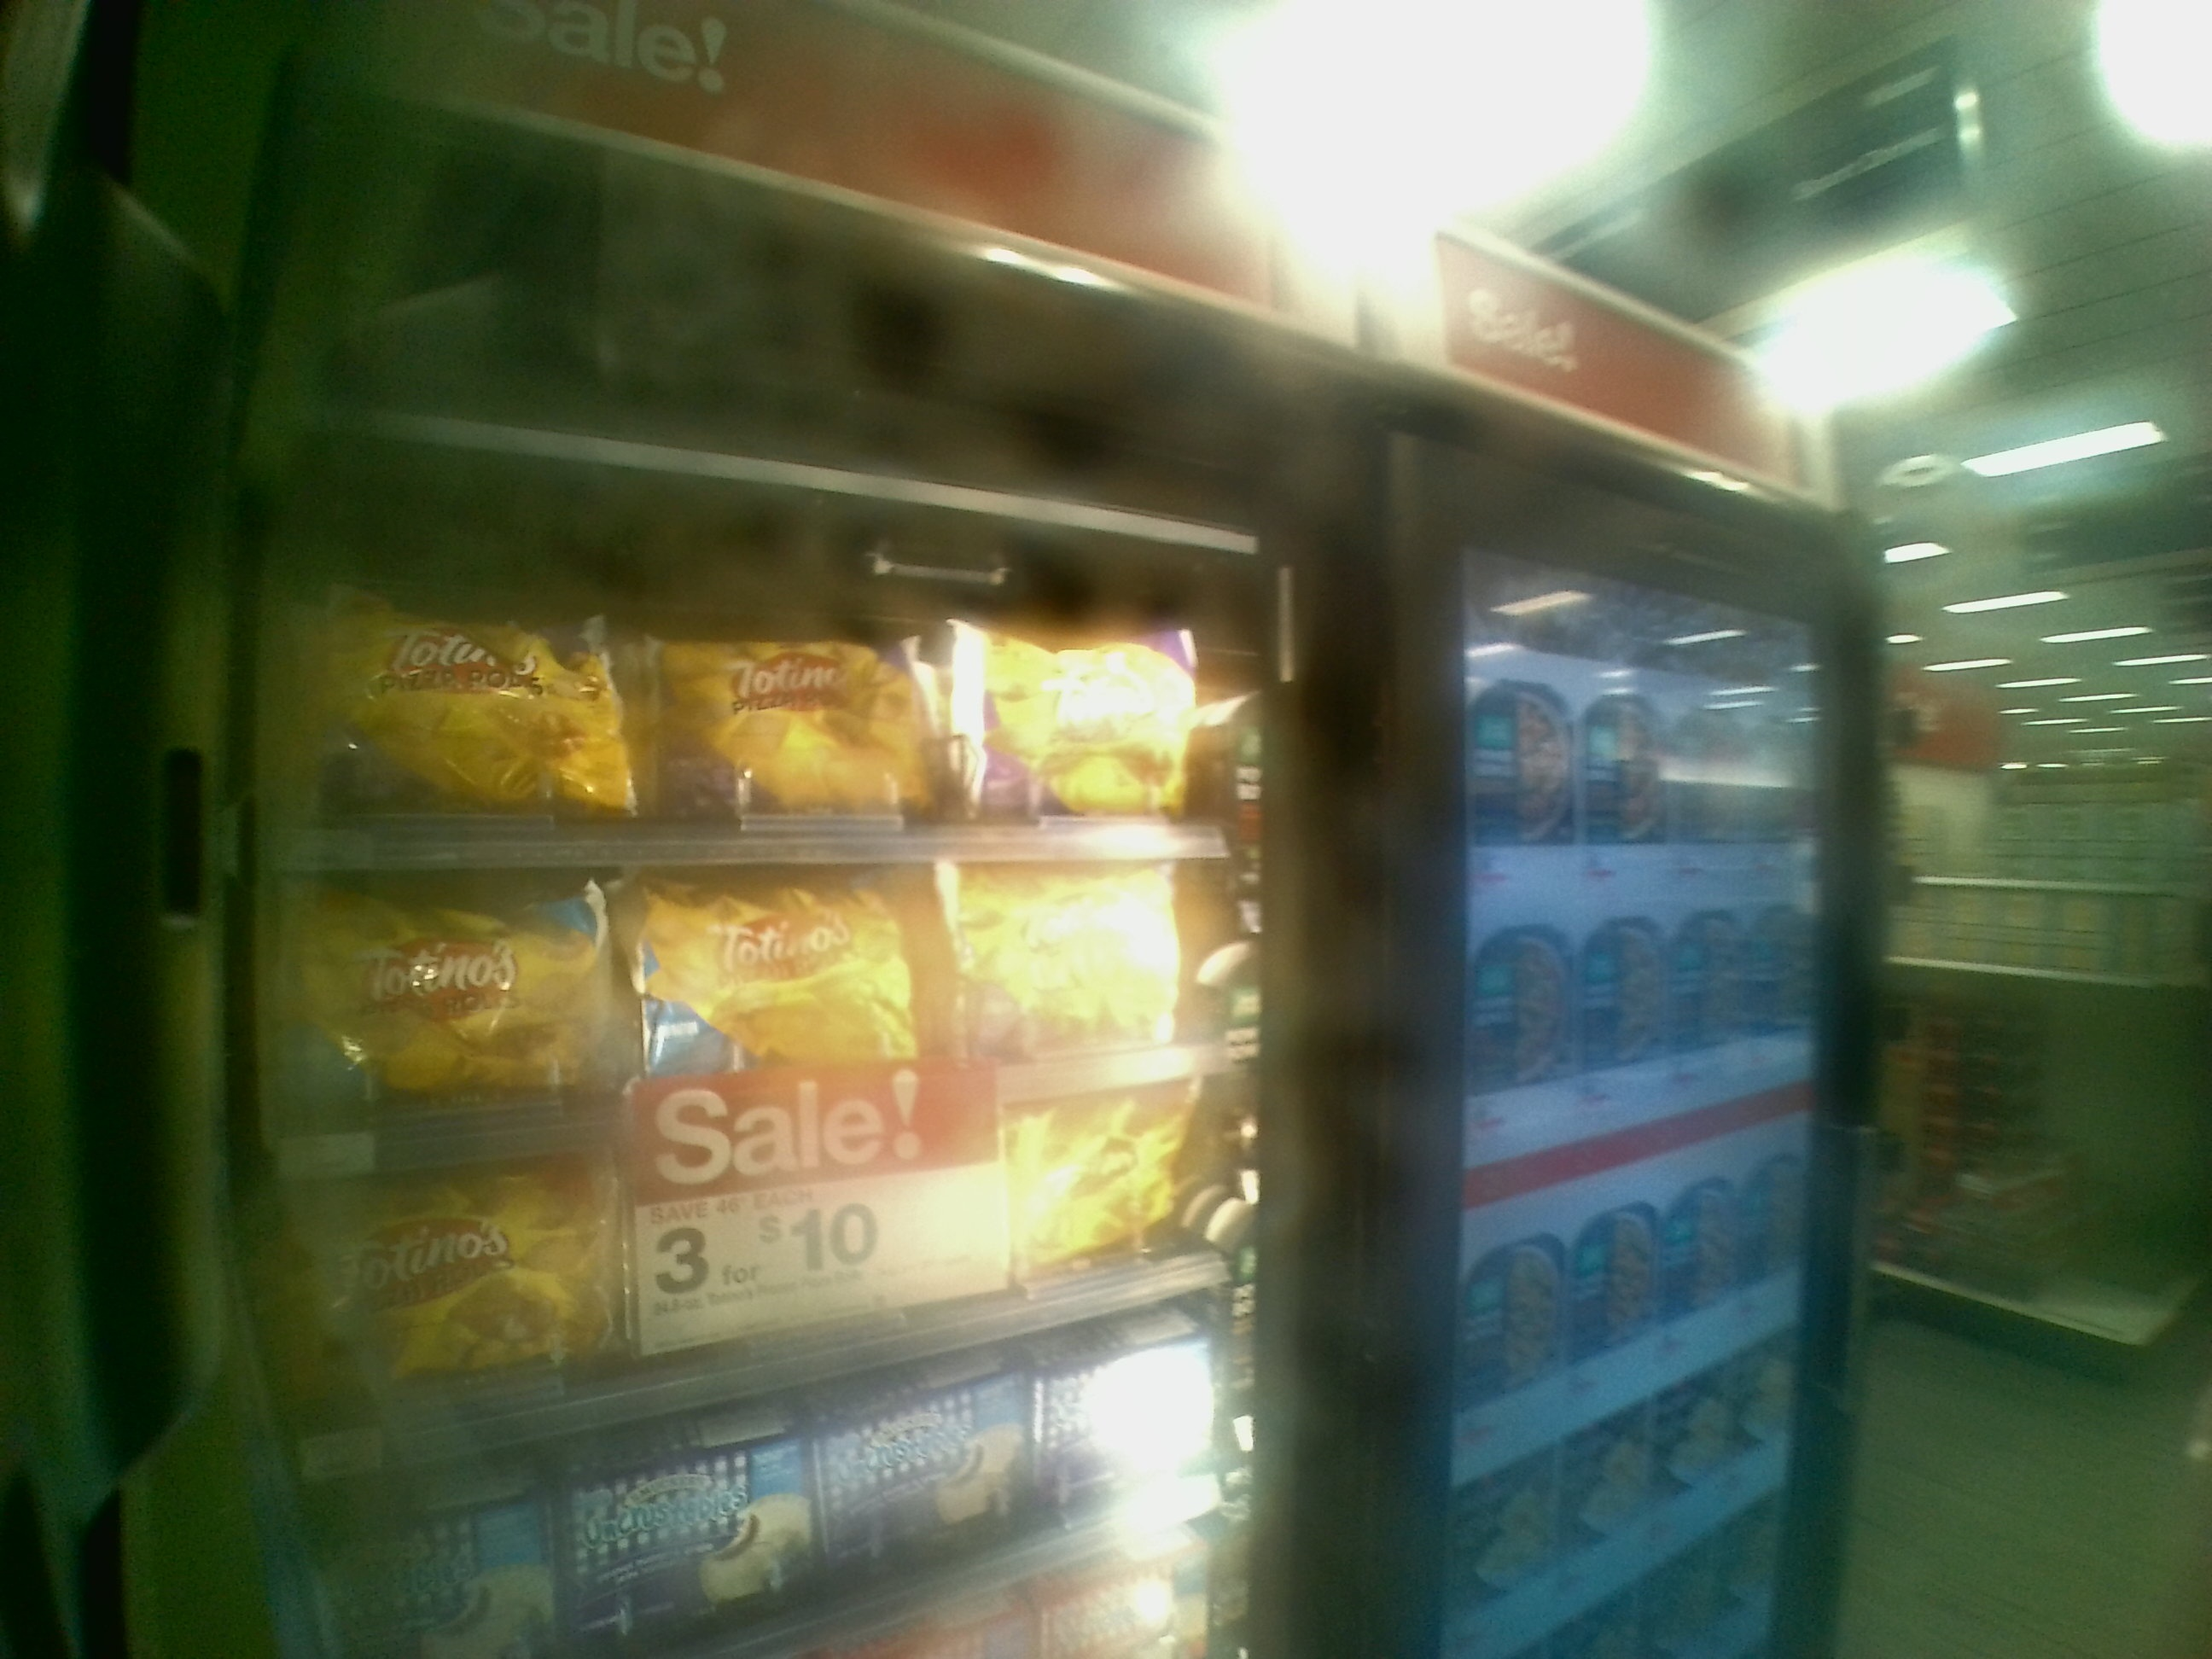shelf: (204, 453, 1252, 856), (244, 845, 1258, 1122)
